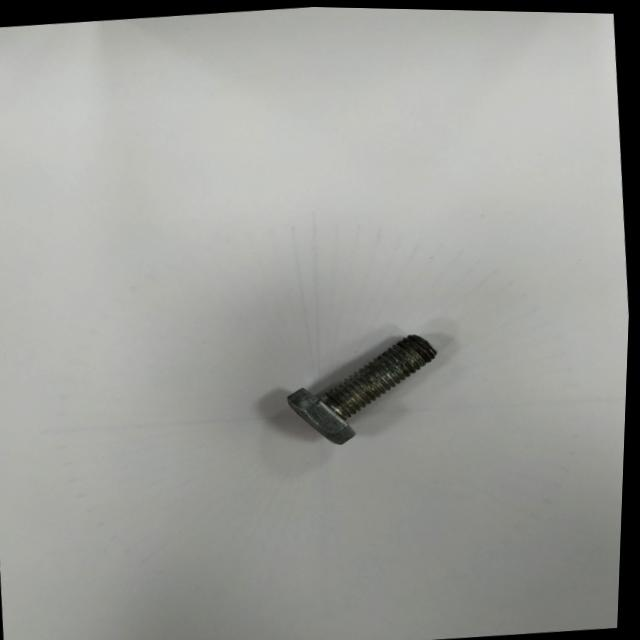Bolt: (291, 333, 439, 441)
